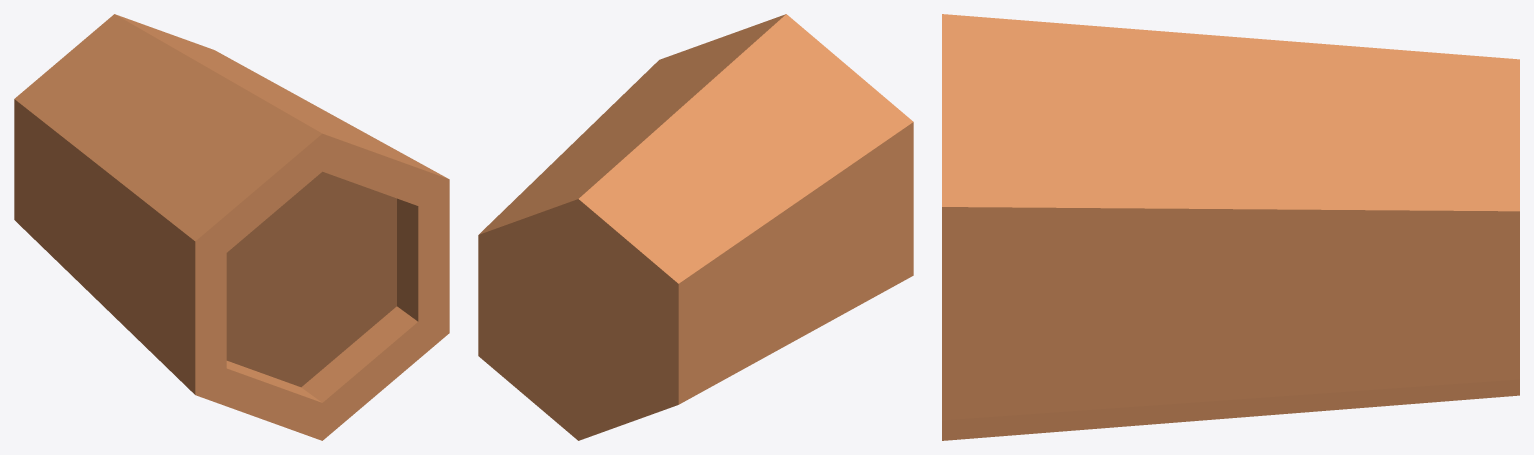
Rendered from pottedPlantPotCollider.obj.
3 views of the same model, side by side, from view 1: azimuth 30°, elevation 25°; view 2: azimuth 150°, elevation 25°; view 3: azimuth 270°, elevation 25° (orthographic). The views are drawn at different scales.
Parts seen in each view (by area): view 1: pottedPlant, pottedPlant.005, pottedPlant.002, pottedPlant.006, pottedPlant.003, pottedPlant.001, pottedPlant.004; view 2: pottedPlant, pottedPlant.005, pottedPlant.006, pottedPlant.004; view 3: pottedPlant, pottedPlant.003, pottedPlant.004, pottedPlant.002.
Part boxes in pixels (x1,y1,x2,y2): pottedPlant: [14, 14, 421, 387]; pottedPlant.005: [175, 120, 322, 252]; pottedPlant.002: [301, 306, 449, 440]; pottedPlant.006: [175, 226, 226, 394]; pottedPlant.003: [397, 180, 449, 332]; pottedPlant.001: [195, 361, 322, 440]; pottedPlant.004: [299, 120, 449, 205]; pottedPlant: [478, 35, 887, 440]; pottedPlant.005: [763, 14, 913, 139]; pottedPlant.006: [887, 122, 913, 289]; pottedPlant.004: [639, 14, 785, 79]; pottedPlant: [1007, 19, 1519, 435]; pottedPlant.003: [942, 207, 1007, 420]; pottedPlant.004: [942, 14, 1007, 207]; pottedPlant.002: [942, 416, 1007, 440].
Size of the model in its own units: 0.5805 by 0.6703 by 0.8223.
